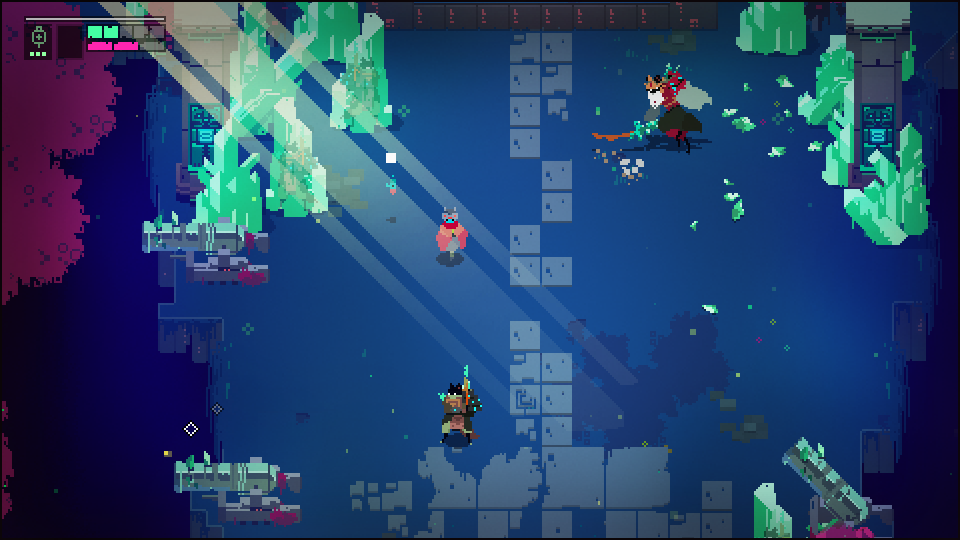hanged_man: (634, 66, 704, 147)
player: (437, 207, 468, 260)
